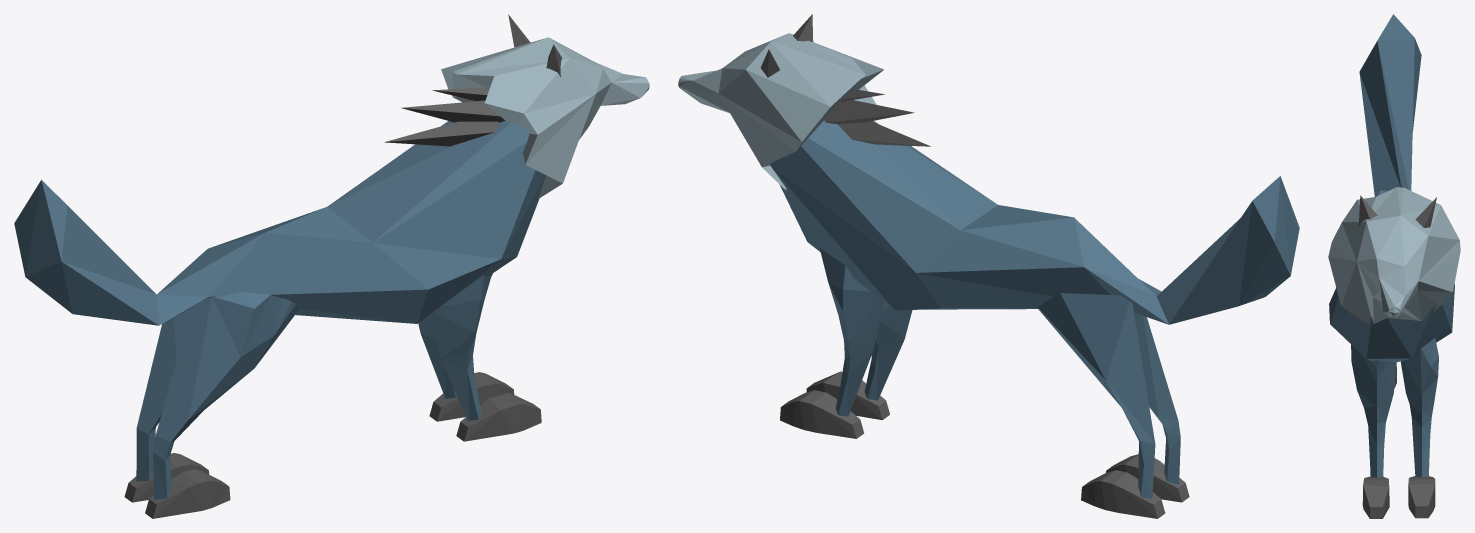
The model's file is wolf4.gltf.
The picture shows the model from 3 angles, left to right: view 1: azimuth 30°, elevation 25°; view 2: azimuth 150°, elevation 25°; view 3: azimuth 270°, elevation 25°; orthographic projection. The views are drawn at different scales.
Parts seen in each view (by area): view 1: 狼.1; view 2: 狼.1; view 3: 狼.1.
Boxes of the visible parts, x1,y1,x2,y2 form: 狼.1: [14, 14, 649, 518]; 狼.1: [678, 14, 1299, 518]; 狼.1: [1328, 14, 1460, 518].
Size of the model in its own units: 574 by 342 by 124.
